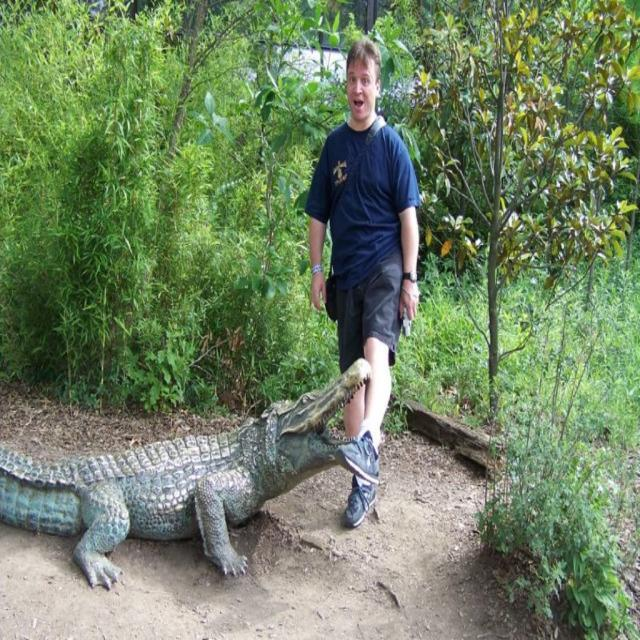crocodile: (0, 364, 368, 583)
